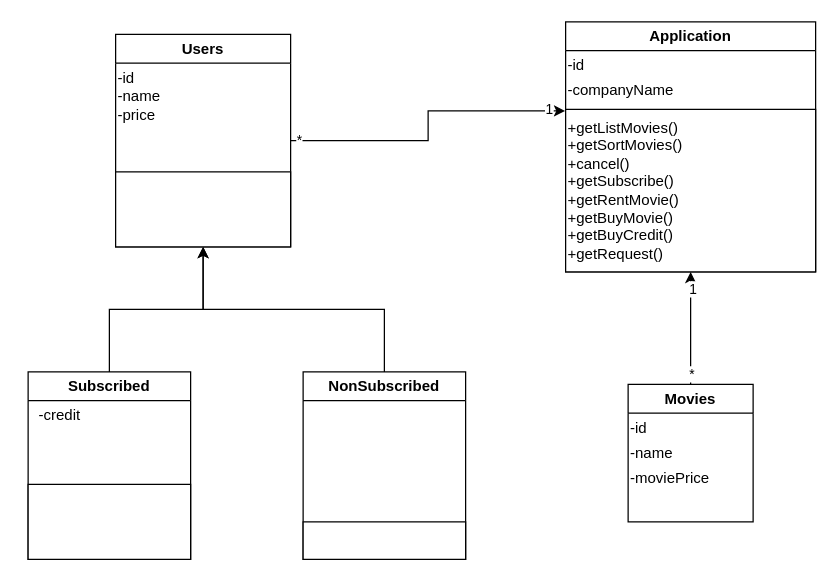
Image size: 838x581. Some labels were removed from this diagram. Each missing label, with the centre of its shape:
"+getBuyMovie(price)" belongs at (202,209).
"+getRentMovie(credit) +getBuyCredit(price) +cancel()" belongs at (109,521).
